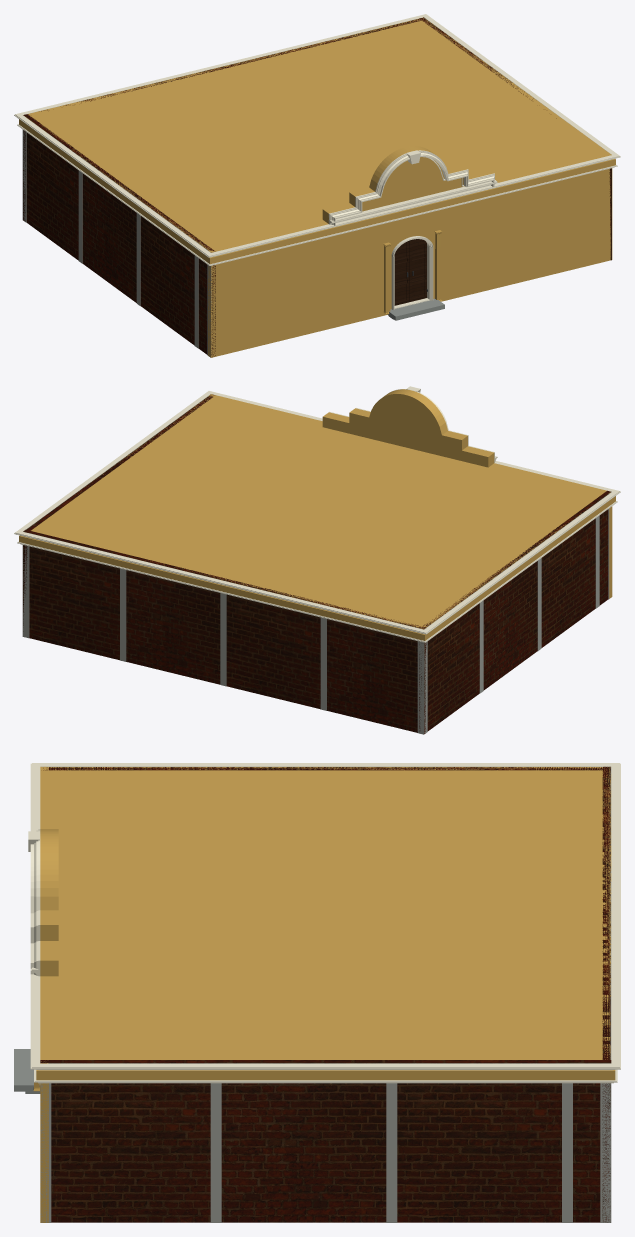
Rendered from building.glb.
3 renders of one model, top to bottom at view 1: azimuth 30°, elevation 25°; view 2: azimuth 150°, elevation 25°; view 3: azimuth 270°, elevation 25°, orthographic. The views are drawn at different scales.
Visible parts, largest first — view 1: roof/house:0/roof_slab#0001, house:0/edge0/z0/house:0/edge0/z0/wall_0_0, house:0/edge3/z0/house:0/edge3/z0/wall_0_0, entablature/entablamento/2/entablature_cornice#0001, entablature/entablamento/1/entablature_frieze#0001, crown/coronamiento/crown_body#0001, crown/coronamiento/crown_moulding#0001, entablature/entablamento/0/entablature_architrave#0001, house:0/edge2/z0/house:0/edge2/z0/wall_0_0, crown/coronamiento/crown_base_cornice#0001, site/entrance/0/entrance_step#0002, house:0/edge1/z0/house:0/edge1/z0/wall_0_0; view 2: roof/house:0/roof_slab#0001, house:0/edge2/z0/house:0/edge2/z0/wall_0_0, house:0/edge3/z0/house:0/edge3/z0/wall_0_0, crown/coronamiento/crown_body#0001, entablature/entablamento/2/entablature_cornice#0001, entablature/entablamento/1/entablature_frieze#0001, entablature/entablamento/0/entablature_architrave#0001, house:0/edge1/z0/house:0/edge1/z0/wall_0_0, house:0/edge0/z0/house:0/edge0/z0/wall_0_0, house:0/edge2/z0/house:0/edge2/z0/column_1_0, house:0/edge2/z0/house:0/edge2/z0/column_0_0, house:0/edge2/z0/house:0/edge2/z0/column_3_0 (+2 smaller); view 3: roof/house:0/roof_slab#0001, house:0/edge1/z0/house:0/edge1/z0/wall_0_0, entablature/entablamento/2/entablature_cornice#0001, entablature/entablamento/1/entablature_frieze#0001, house:0/edge2/z0/house:0/edge2/z0/wall_0_0, house:0/edge0/z0/house:0/edge0/z0/wall_0_0, crown/coronamiento/crown_body#0001, entablature/entablamento/0/entablature_architrave#0001, house:0/edge3/z0/house:0/edge3/z0/wall_0_0, house:0/edge1/z0/house:0/edge1/z0/column_2_0, house:0/edge1/z0/house:0/edge1/z0/column_3_0, house:0/edge1/z0/house:0/edge1/z0/column_1_0 (+4 smaller).
Part boxes in pixels (x1=…): roof/house:0/roof_slab#0001: x1=26, y1=17, x2=611, y2=251; house:0/edge0/z0/house:0/edge0/z0/wall_0_0: x1=208, y1=155, x2=612, y2=357; house:0/edge3/z0/house:0/edge3/z0/wall_0_0: x1=23, y1=114, x2=215, y2=357; entablature/entablamento/2/entablature_cornice#0001: x1=14, y1=14, x2=620, y2=257; entablature/entablamento/1/entablature_frieze#0001: x1=19, y1=119, x2=615, y2=264; crown/coronamiento/crown_body#0001: x1=322, y1=146, x2=493, y2=223; crown/coronamiento/crown_moulding#0001: x1=328, y1=150, x2=494, y2=225; entablature/entablamento/0/entablature_architrave#0001: x1=17, y1=124, x2=617, y2=265; house:0/edge2/z0/house:0/edge2/z0/wall_0_0: x1=23, y1=18, x2=425, y2=221; crown/coronamiento/crown_base_cornice#0001: x1=328, y1=180, x2=497, y2=224; site/entrance/0/entrance_step#0002: x1=387, y1=298, x2=444, y2=320; house:0/edge1/z0/house:0/edge1/z0/wall_0_0: x1=419, y1=17, x2=611, y2=260; roof/house:0/roof_slab#0001: x1=31, y1=394, x2=605, y2=629; house:0/edge2/z0/house:0/edge2/z0/wall_0_0: x1=23, y1=529, x2=426, y2=733; house:0/edge3/z0/house:0/edge3/z0/wall_0_0: x1=419, y1=490, x2=611, y2=731; crown/coronamiento/crown_body#0001: x1=322, y1=390, x2=493, y2=467; entablature/entablamento/2/entablature_cornice#0001: x1=14, y1=391, x2=620, y2=634; entablature/entablamento/1/entablature_frieze#0001: x1=19, y1=496, x2=615, y2=640; entablature/entablamento/0/entablature_architrave#0001: x1=17, y1=501, x2=617, y2=642; house:0/edge1/z0/house:0/edge1/z0/wall_0_0: x1=23, y1=394, x2=214, y2=631; house:0/edge0/z0/house:0/edge0/z0/wall_0_0: x1=209, y1=394, x2=612, y2=598; house:0/edge2/z0/house:0/edge2/z0/column_1_0: x1=417, y1=641, x2=424, y2=734; house:0/edge2/z0/house:0/edge2/z0/column_0_0: x1=22, y1=545, x2=29, y2=638; house:0/edge2/z0/house:0/edge2/z0/column_3_0: x1=220, y1=593, x2=226, y2=686; roof/house:0/roof_slab#0001: x1=40, y1=766, x2=611, y2=1059; house:0/edge1/z0/house:0/edge1/z0/wall_0_0: x1=40, y1=1060, x2=611, y2=1222; entablature/entablamento/2/entablature_cornice#0001: x1=30, y1=763, x2=620, y2=1070; entablature/entablamento/1/entablature_frieze#0001: x1=36, y1=1070, x2=615, y2=1080; house:0/edge2/z0/house:0/edge2/z0/wall_0_0: x1=602, y1=766, x2=610, y2=1222; house:0/edge0/z0/house:0/edge0/z0/wall_0_0: x1=40, y1=766, x2=48, y2=1222; crown/coronamiento/crown_body#0001: x1=42, y1=829, x2=58, y2=976; entablature/entablamento/0/entablature_architrave#0001: x1=34, y1=1069, x2=617, y2=1083; house:0/edge3/z0/house:0/edge3/z0/wall_0_0: x1=43, y1=767, x2=610, y2=770; house:0/edge1/z0/house:0/edge1/z0/column_2_0: x1=210, y1=1083, x2=221, y2=1222; house:0/edge1/z0/house:0/edge1/z0/column_3_0: x1=386, y1=1083, x2=397, y2=1222; house:0/edge1/z0/house:0/edge1/z0/column_1_0: x1=600, y1=1083, x2=611, y2=1222.
Size of the model in its own units: 16.44 by 6.06 by 13.82.
8 materials, 2 textured.
